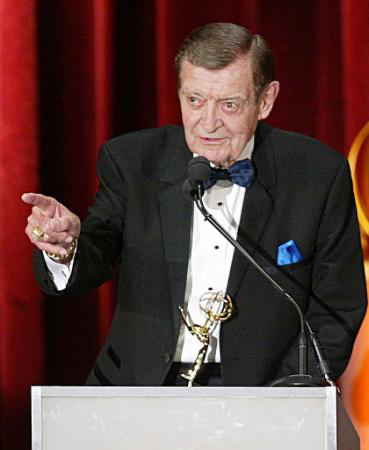Face: (177, 72, 257, 170)
